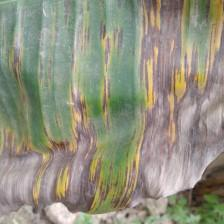sigatoka: (0, 0, 224, 219)
